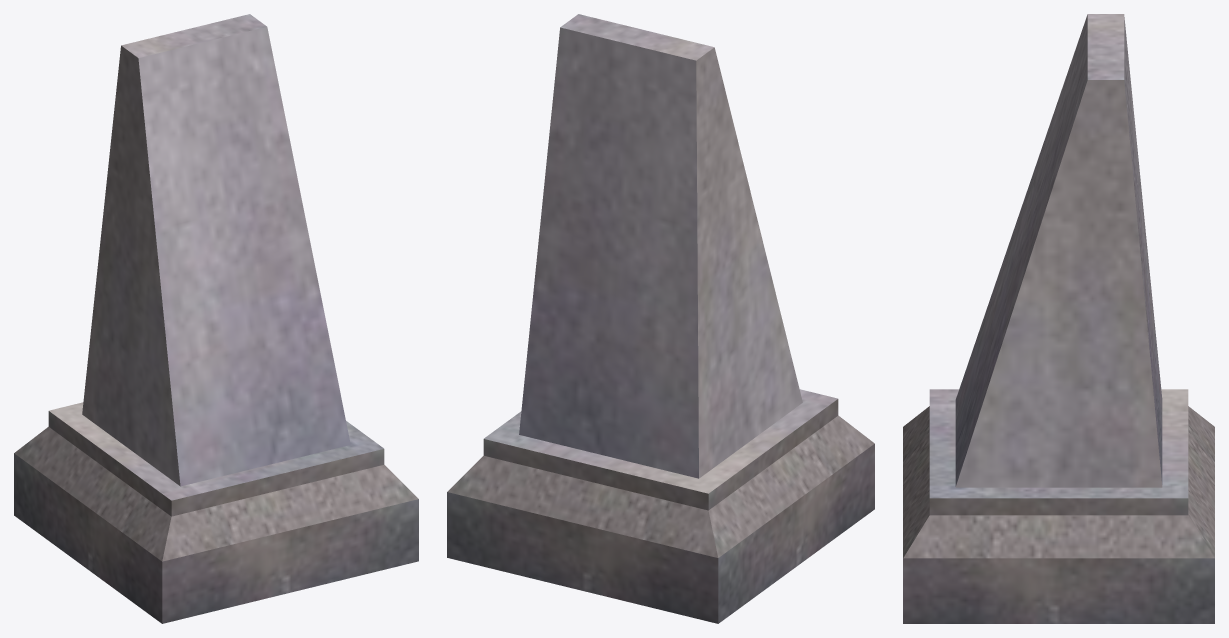
The model's file is grave3.glb.
3 views of the same model, side by side, from view 1: azimuth 30°, elevation 25°; view 2: azimuth 150°, elevation 25°; view 3: azimuth 270°, elevation 25° (orthographic). The views are drawn at different scales.
Bounding box in the file's own units: 1.6 × 2.89 × 1.6.
Materials: 1 (1 with a texture image).
